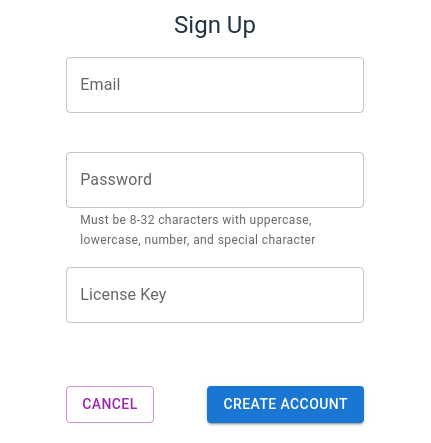
SignUp › submits new user
Type "user@example.com" into the field labelled "Email" at (215, 85), box [66, 57, 364, 113]
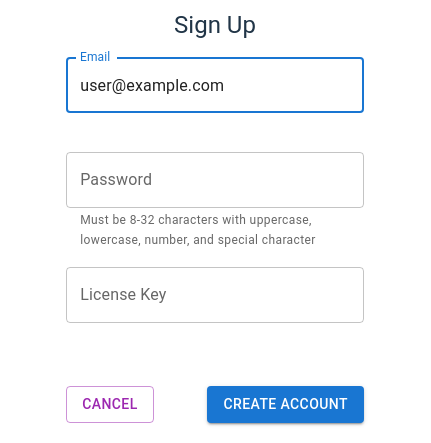
Type "Pass1234!" into the password field labelled "Password" at (215, 180), box [66, 152, 364, 208]
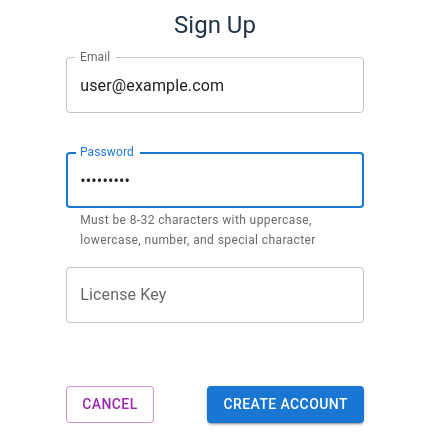
Type "12341234" into the field labelled "License Key" at (215, 295), box [66, 267, 364, 323]
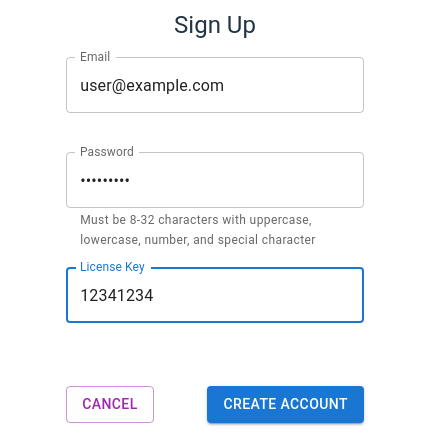
Click the button "Create Account" at (286, 404), box [208, 386, 364, 423]
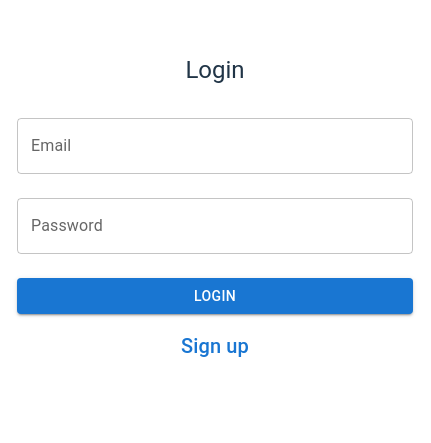
Expected: the link "Sign up" is shown, [181, 334, 249, 358]
Result: the label labelled "License Key" is gone
